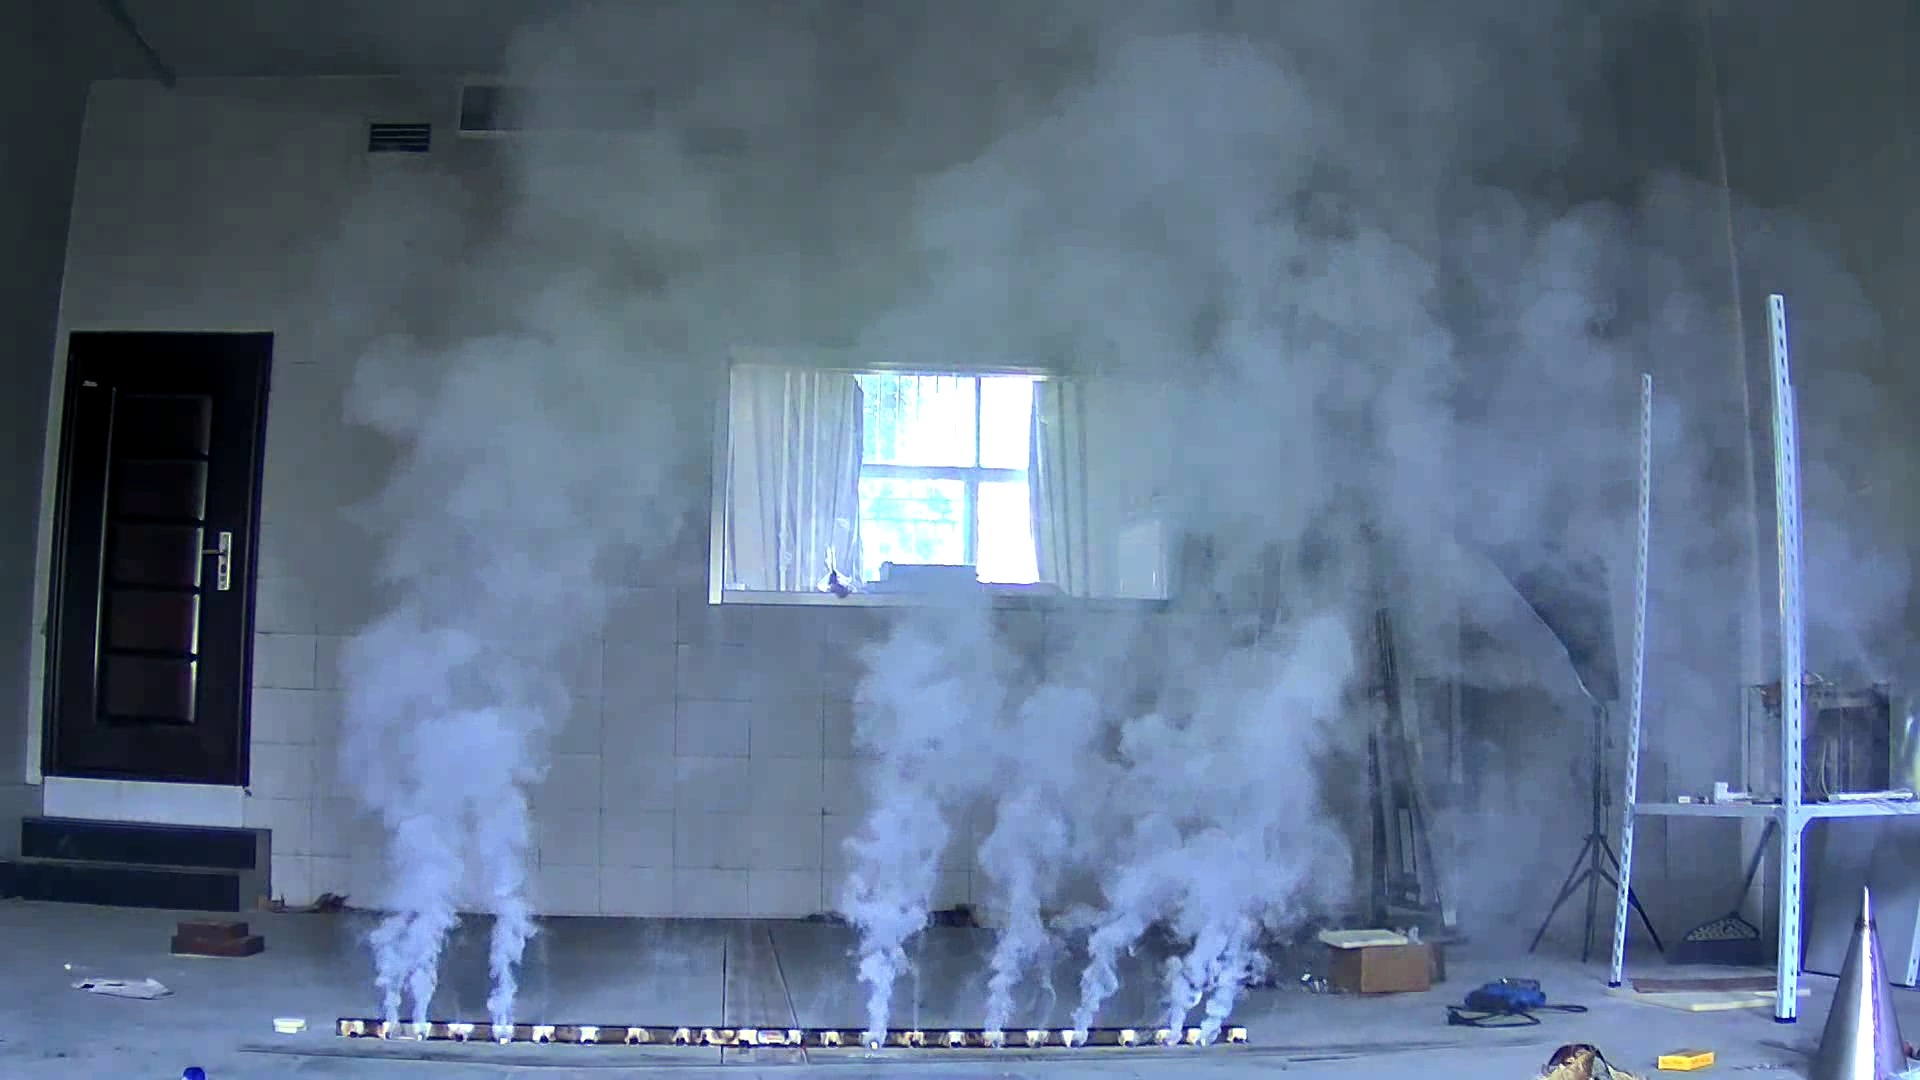smoke: (825, 41, 1484, 1034), (348, 80, 600, 1022)
